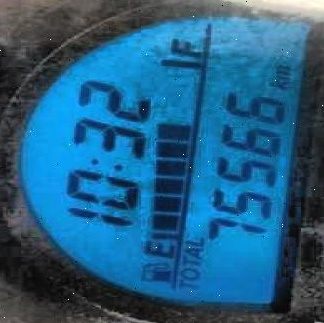0: (61, 170, 141, 205)
1: (57, 206, 136, 227)
2: (72, 79, 151, 115)
3: (66, 118, 147, 154)
5: (209, 157, 275, 186), (207, 188, 277, 215)
6: (216, 123, 281, 153), (222, 92, 284, 121)
7: (204, 216, 269, 239)
X: (167, 37, 201, 57), (141, 238, 172, 258), (86, 155, 126, 169), (176, 265, 201, 278), (271, 64, 291, 78), (265, 78, 289, 88), (179, 254, 199, 265), (182, 236, 204, 246), (176, 278, 196, 288), (182, 246, 202, 256)
